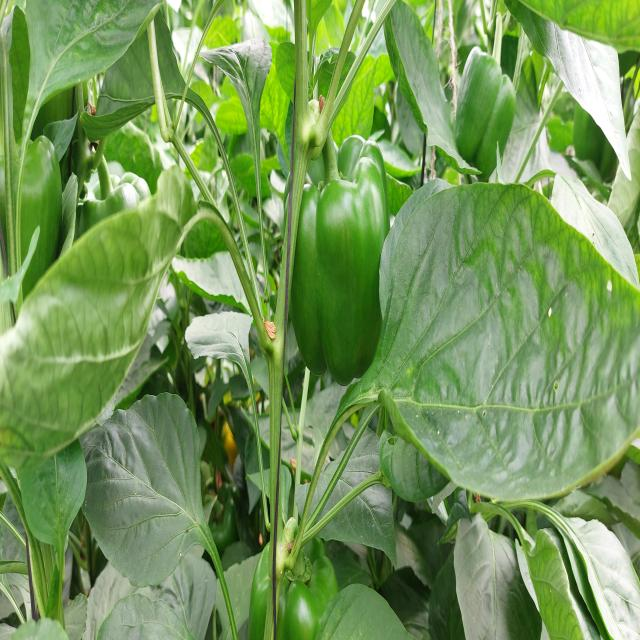Green--Not-ready-to-harvest: (286, 144, 390, 382), (249, 513, 340, 640), (453, 46, 514, 181)
